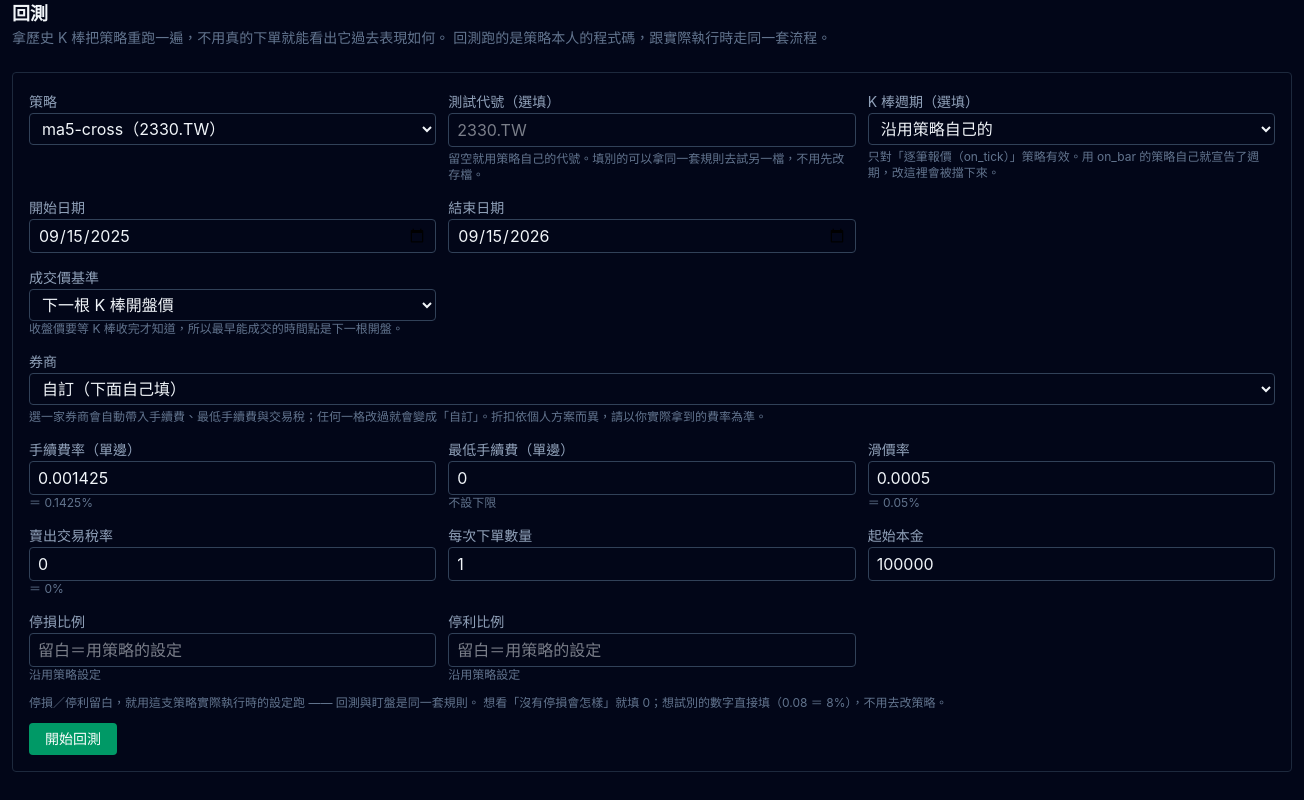
Scenario: BacktestPage › puts the costs the result was computed under right next to the numbers
The width and height of the screenshot is (1304, 800).
Click the button "開始回測": coordinates (73, 739) [29,723,117,755]
(page scrolled)
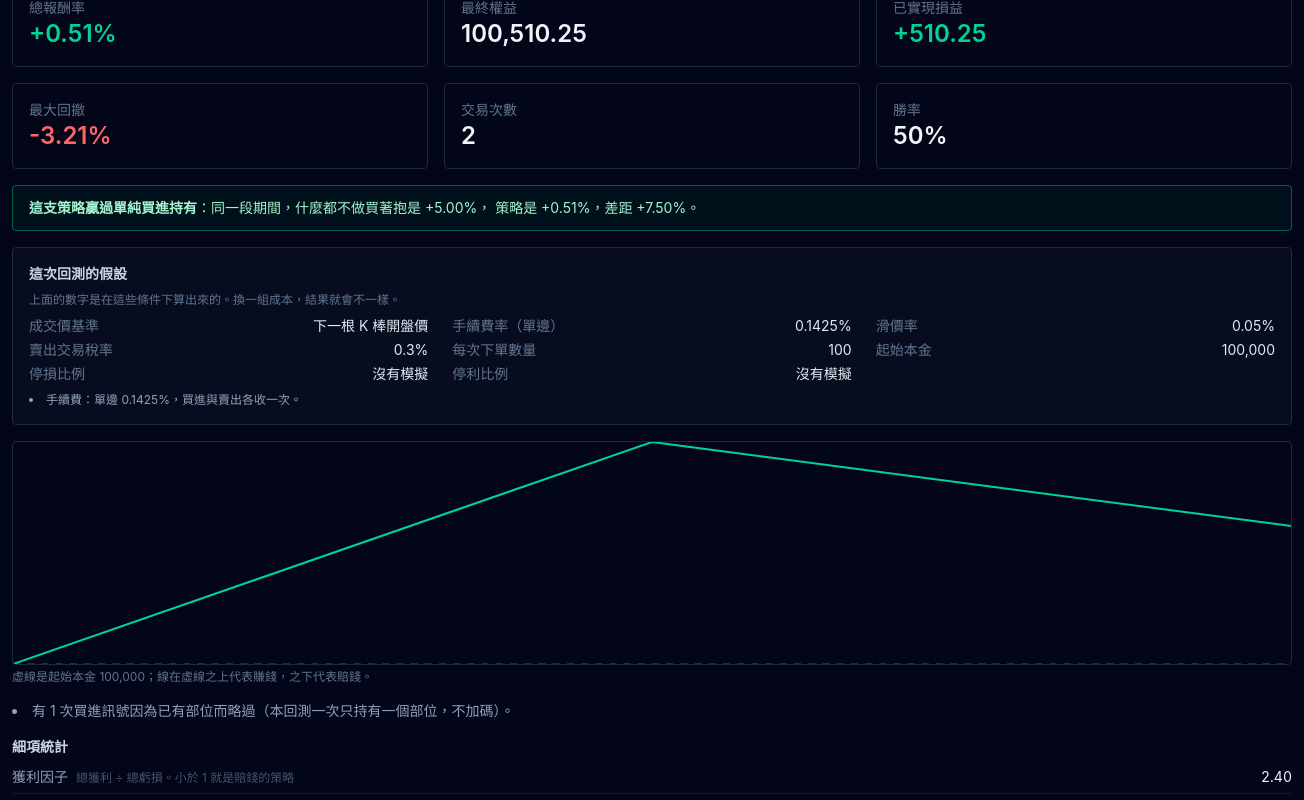
Result: the text "0.1425%" is shown at [795,316,852,336]
Result: the text "0.05%" is shown at [1232,316,1275,336]
Result: the text "0.3%" is shown at [394,340,428,360]
